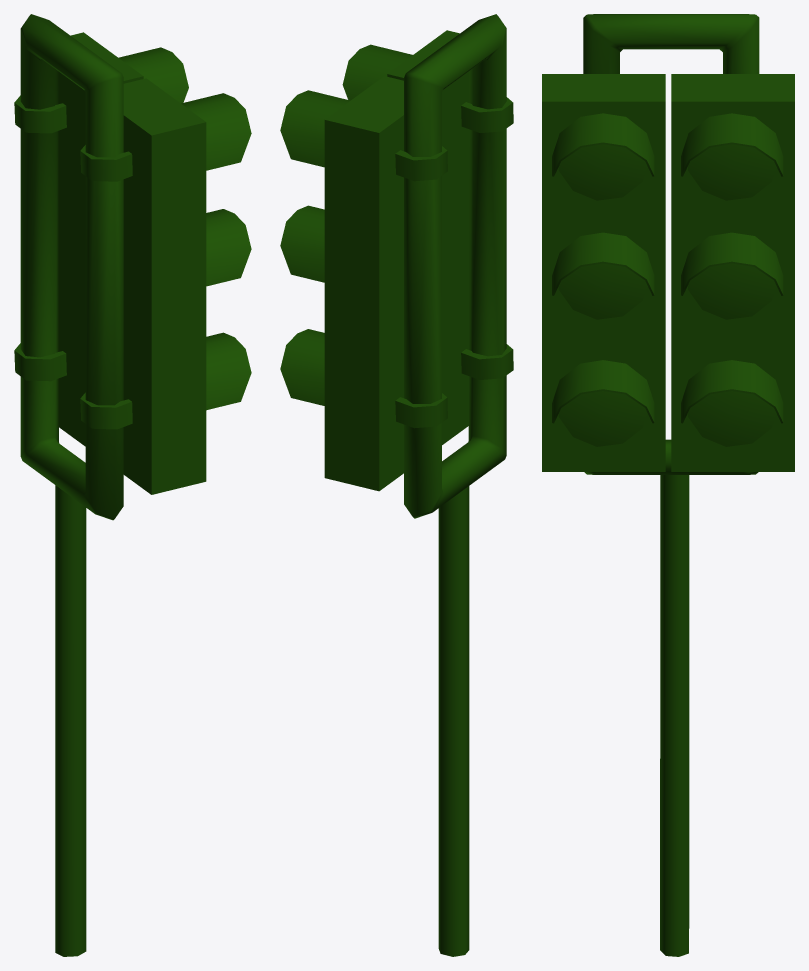
File: T2_Lights02.fbx
3 renders of one model, left to right at view 1: azimuth 30°, elevation 25°; view 2: azimuth 150°, elevation 25°; view 3: azimuth 270°, elevation 25°, orthographic. The views are drawn at different scales.
Visible parts, largest first — view 1: T2_Lights02; view 2: T2_Lights02; view 3: T2_Lights02, T2_Lights02_L1, T2_Lights02_L2.
Part boxes in pixels (x1=…): T2_Lights02: x1=14, y1=14, x2=251, y2=956; T2_Lights02: x1=280, y1=14, x2=513, y2=956; T2_Lights02: x1=542, y1=14, x2=794, y2=956; T2_Lights02_L1: x1=558, y1=144, x2=776, y2=446; T2_Lights02_L2: x1=559, y1=161, x2=774, y2=319.
Size of the model in its own units: 0.1761 by 1.03 by 0.2516.
